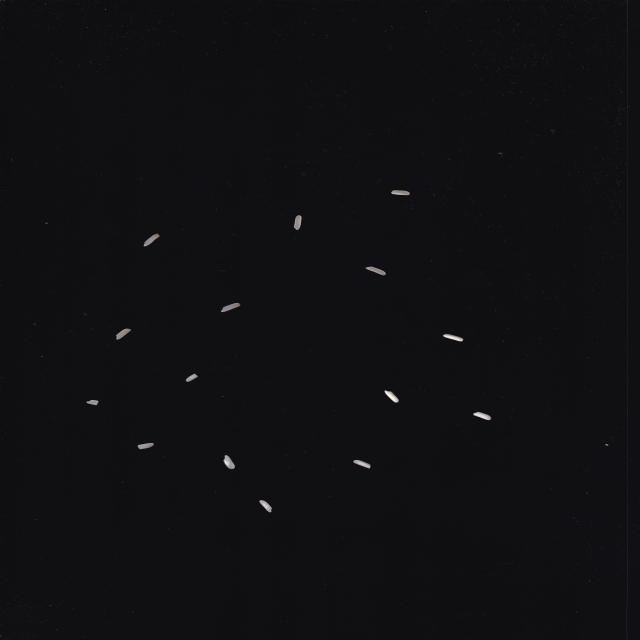Chalky: (223, 455, 235, 469), (259, 500, 272, 512), (354, 460, 371, 468)
Not: (366, 266, 386, 276), (144, 234, 160, 246), (384, 390, 398, 403), (221, 303, 240, 312), (116, 328, 131, 339), (473, 412, 491, 420), (443, 334, 463, 341), (294, 215, 302, 230), (138, 443, 154, 449), (186, 374, 198, 382), (391, 190, 410, 195), (86, 400, 98, 405)
